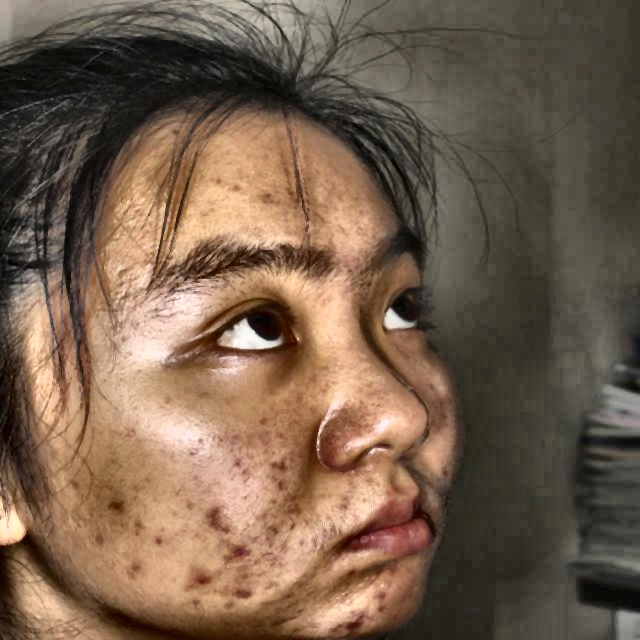pustule: (326, 608, 376, 636), (227, 578, 265, 607), (358, 588, 396, 612), (183, 561, 213, 590), (208, 502, 236, 532), (100, 491, 130, 514), (124, 554, 146, 582), (374, 563, 407, 574), (125, 516, 144, 535), (227, 549, 246, 567)
